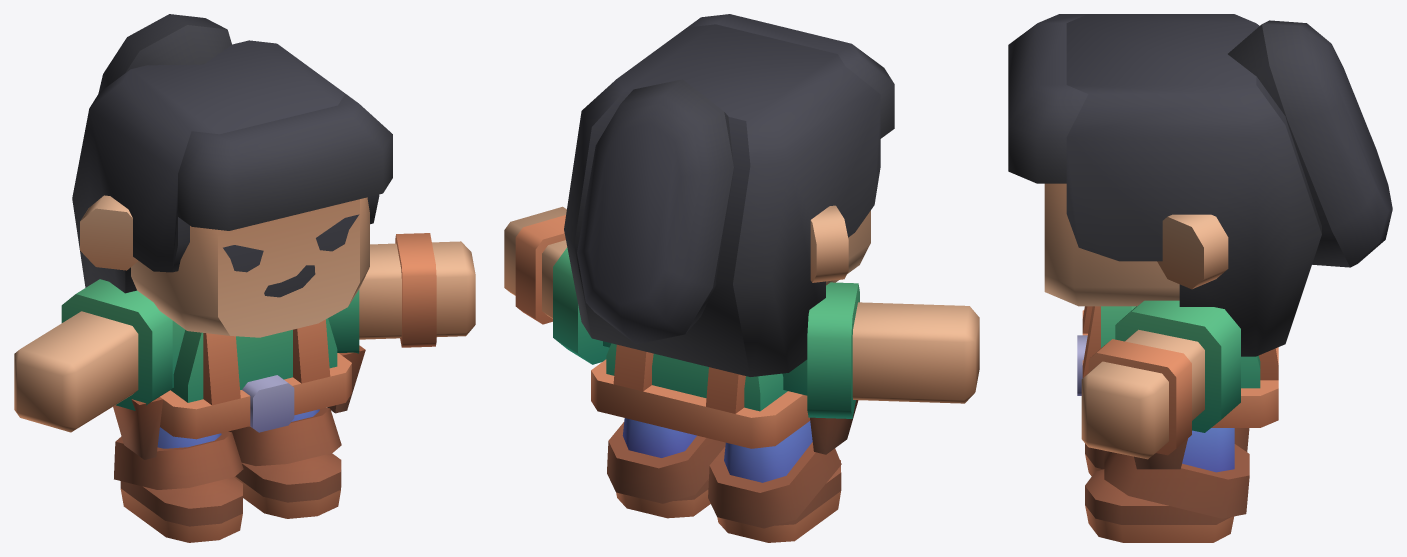
Rendered from character-raider.obj.
The picture shows the model from 3 angles, left to right: view 1: azimuth 30°, elevation 25°; view 2: azimuth 150°, elevation 25°; view 3: azimuth 270°, elevation 25°; orthographic projection. The views are drawn at different scales.
Parts seen in each view (by area): view 1: head-mesh, body-mesh; view 2: head-mesh, body-mesh; view 3: head-mesh, body-mesh.
Part boxes in pixels (x1,y1,x2,y2): head-mesh: [72, 14, 392, 337]; body-mesh: [14, 233, 475, 542]; head-mesh: [564, 14, 894, 376]; body-mesh: [504, 206, 979, 542]; head-mesh: [1008, 14, 1392, 356]; body-mesh: [1077, 300, 1278, 542].
Size of the model in its own units: 0.7672 by 0.7165 by 0.5271.
1 material, 1 textured.
